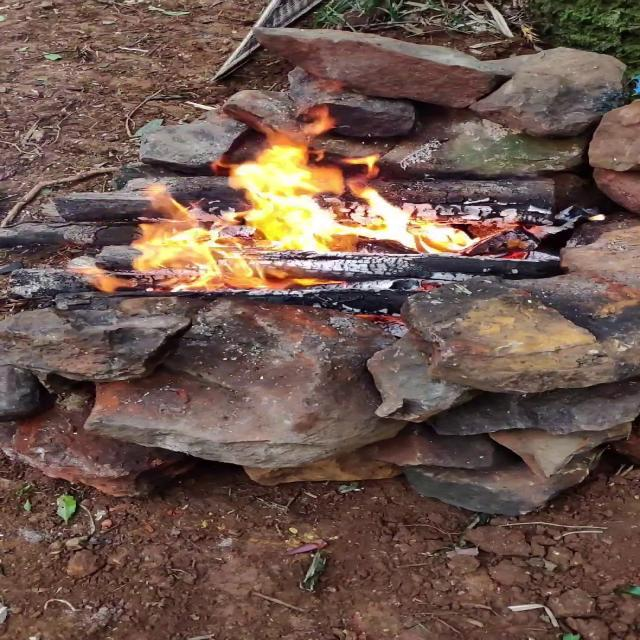Fire: (95, 117, 480, 290)
